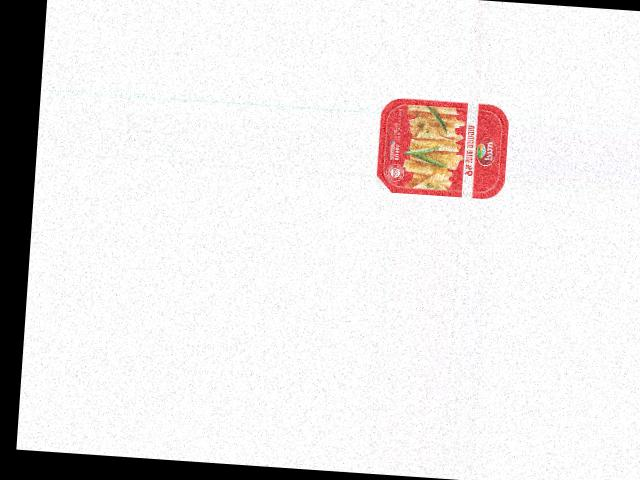cheese: (375, 95, 510, 199)
